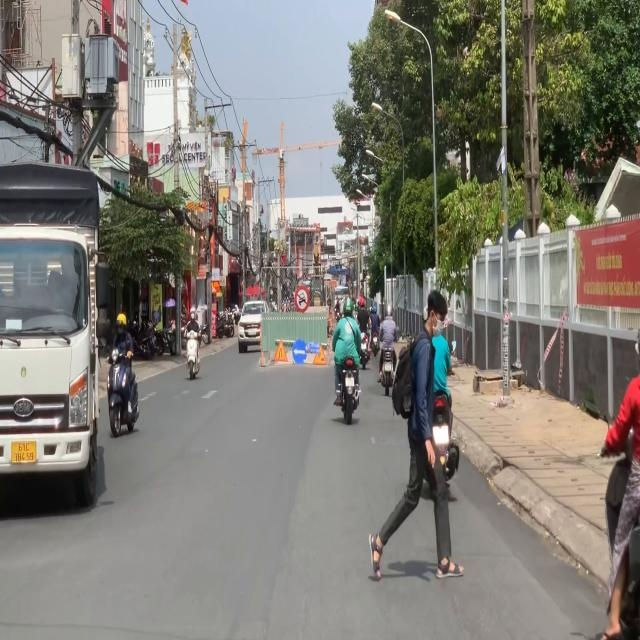bien_cam: (294, 285, 310, 313), (292, 338, 307, 364), (312, 343, 328, 366), (274, 338, 288, 363)
